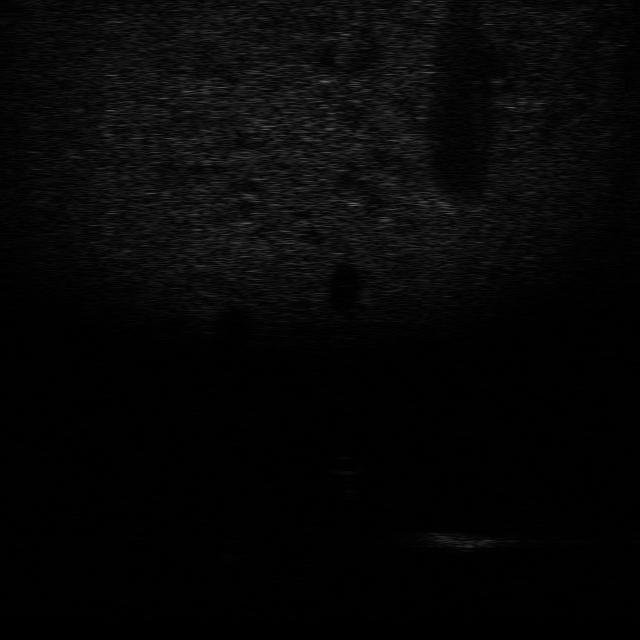ball: (326, 450, 366, 479)
metal bucket: (407, 526, 505, 554)
tyre: (212, 530, 258, 565)
